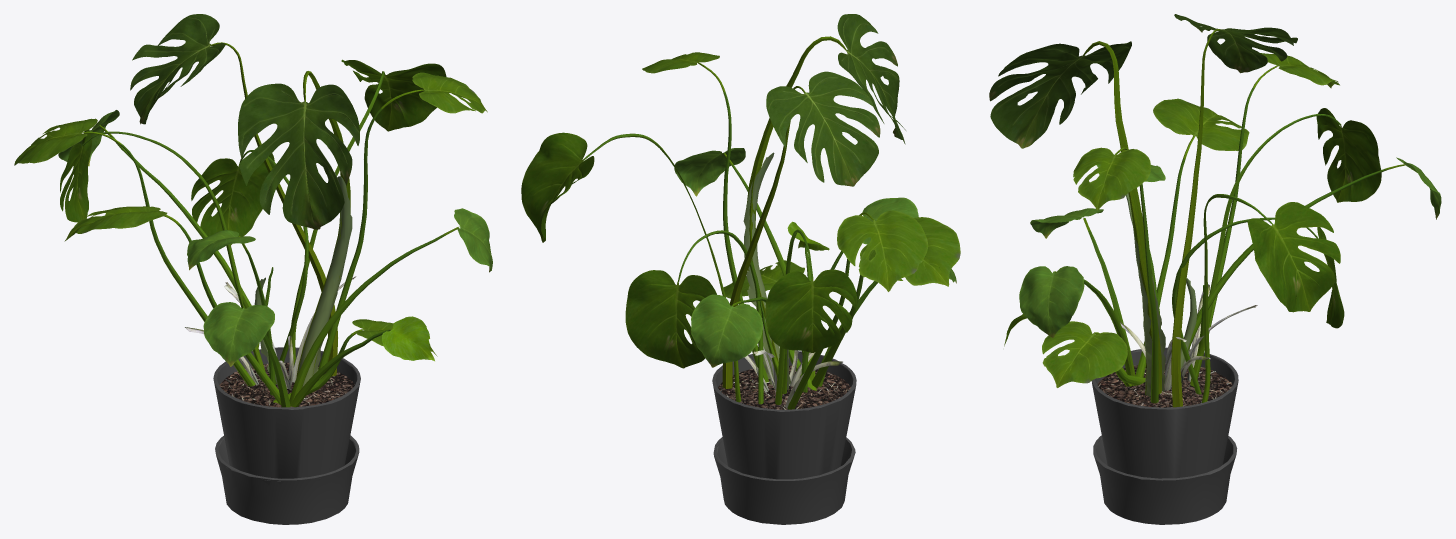
File: plant_4.glb
3 views of the same model, side by side, from view 1: azimuth 30°, elevation 25°; view 2: azimuth 150°, elevation 25°; view 3: azimuth 270°, elevation 25° (orthographic).
Visible parts, largest first — view 1: Plants_VOL01_04; view 2: Plants_VOL01_04; view 3: Plants_VOL01_04.
Part boxes in pixels (x1=…): Plants_VOL01_04: x1=14, y1=14, x2=492, y2=524; Plants_VOL01_04: x1=521, y1=14, x2=960, y2=524; Plants_VOL01_04: x1=989, y1=14, x2=1441, y2=524.
Bounding box in the file's own units: 0.8461 × 0.8852 × 0.7948.
11 materials, 10 textured.
